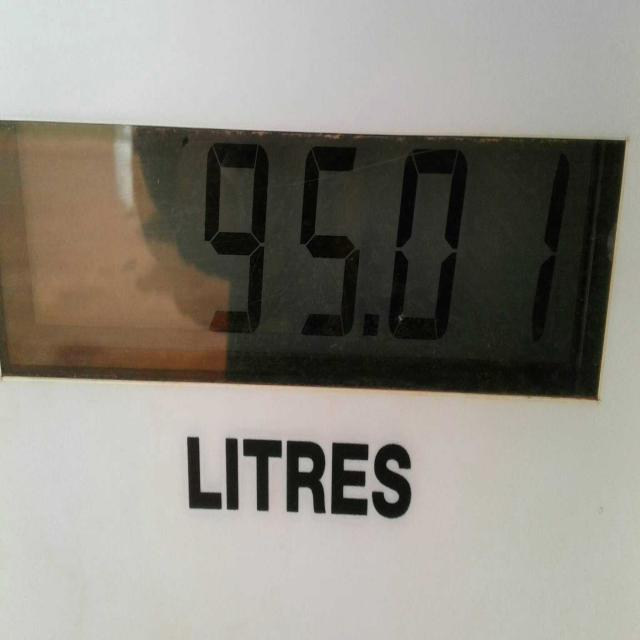.: (362, 311, 384, 342)
0: (388, 153, 460, 351)
1: (527, 152, 564, 358)
5: (302, 149, 360, 340)
9: (204, 140, 270, 338)
